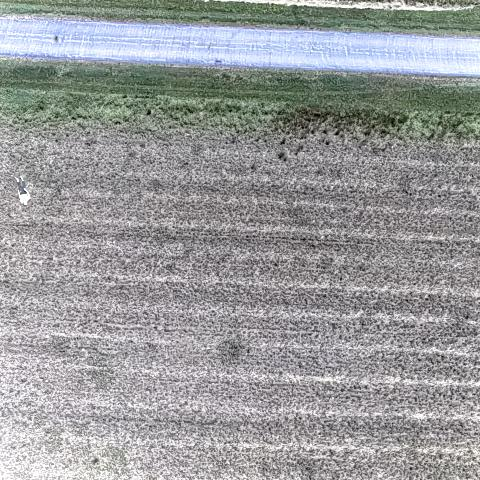person: (13, 171, 34, 210)
